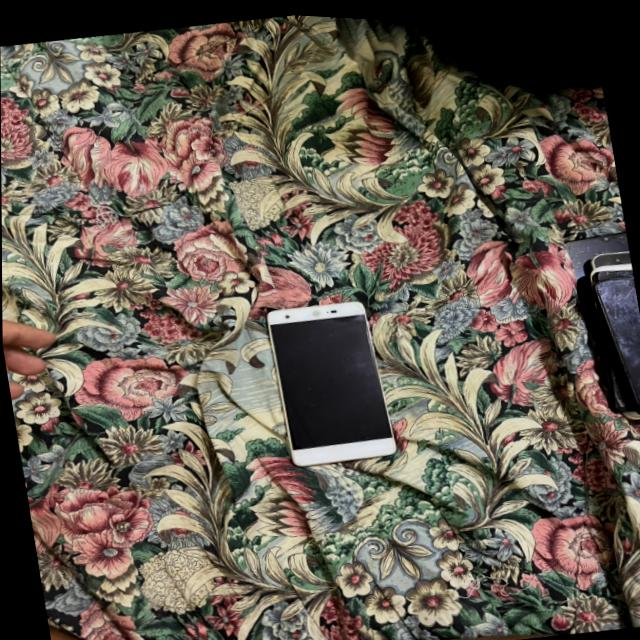Smartphone: (267, 298, 396, 463)
